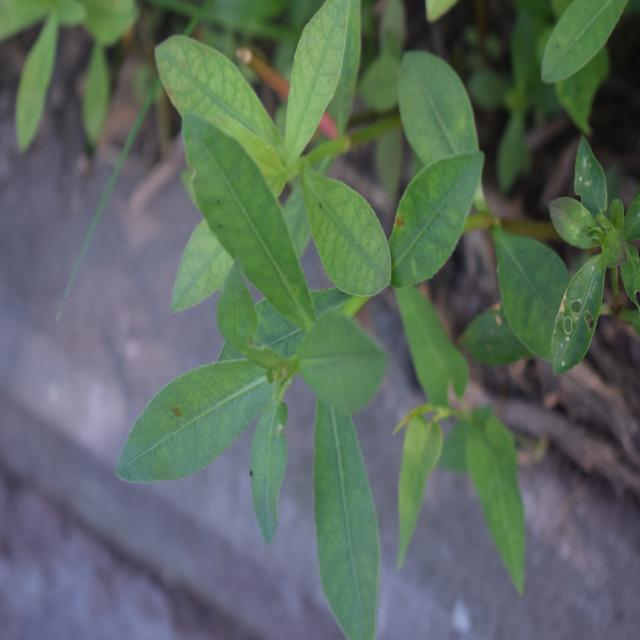Alligatorweed: (109, 151, 430, 617)
